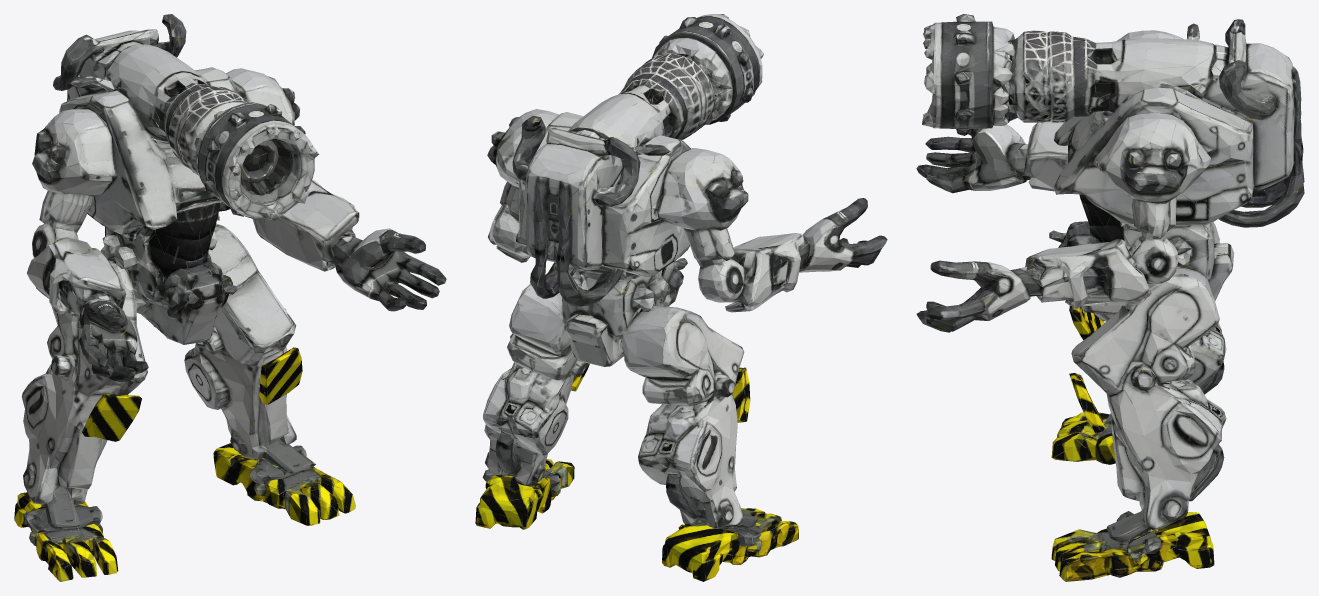
Rendered from hazard-crusher.glb.
3 renders of one model, left to right at view 1: azimuth 30°, elevation 25°; view 2: azimuth 150°, elevation 25°; view 3: azimuth 270°, elevation 25°, orthographic. The views are drawn at different scales.
Bounding box in the file's own units: 1.41 × 1.8 × 1.3.
Materials: 1 (1 with a texture image).
